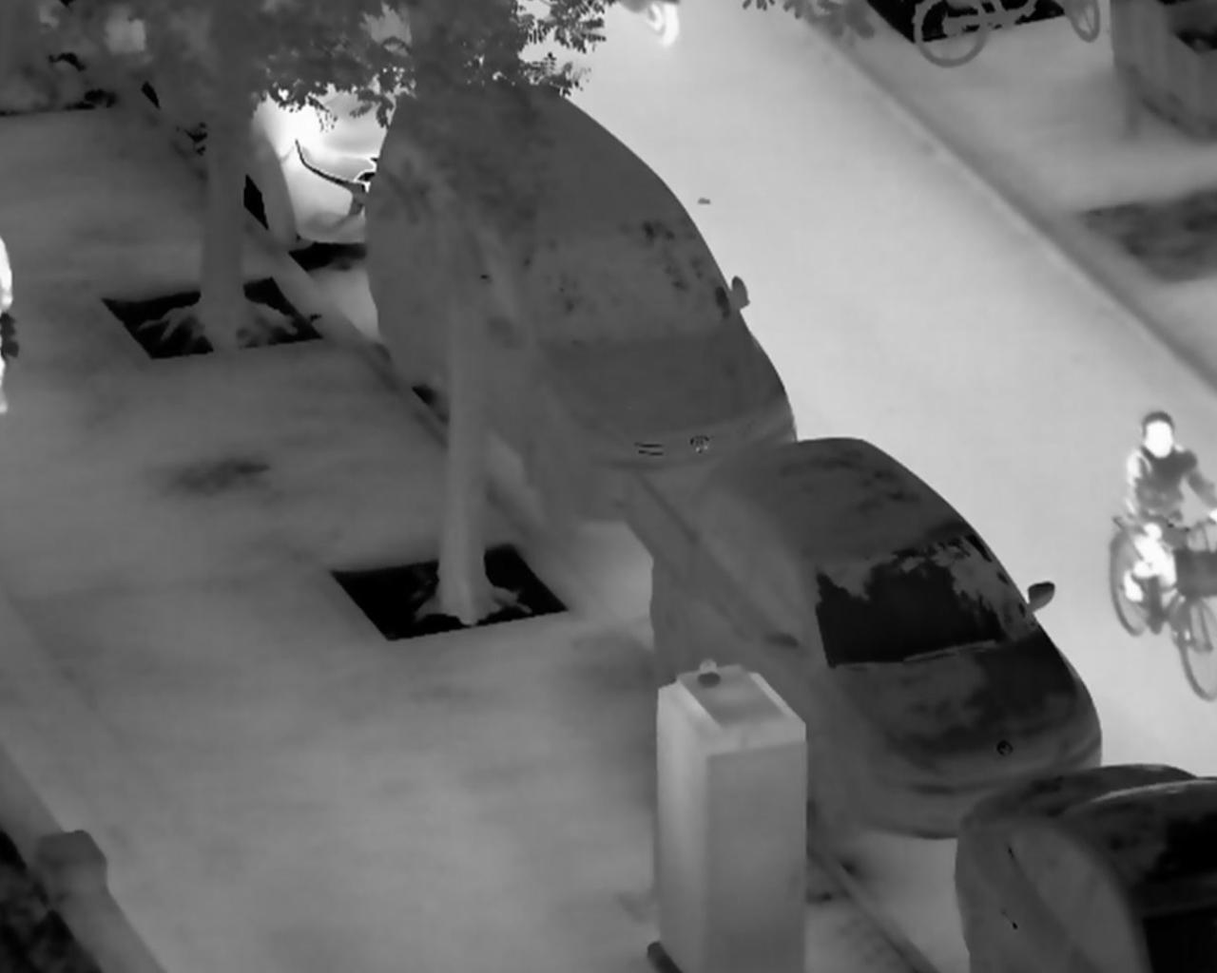person: (1120, 409, 1217, 604)
